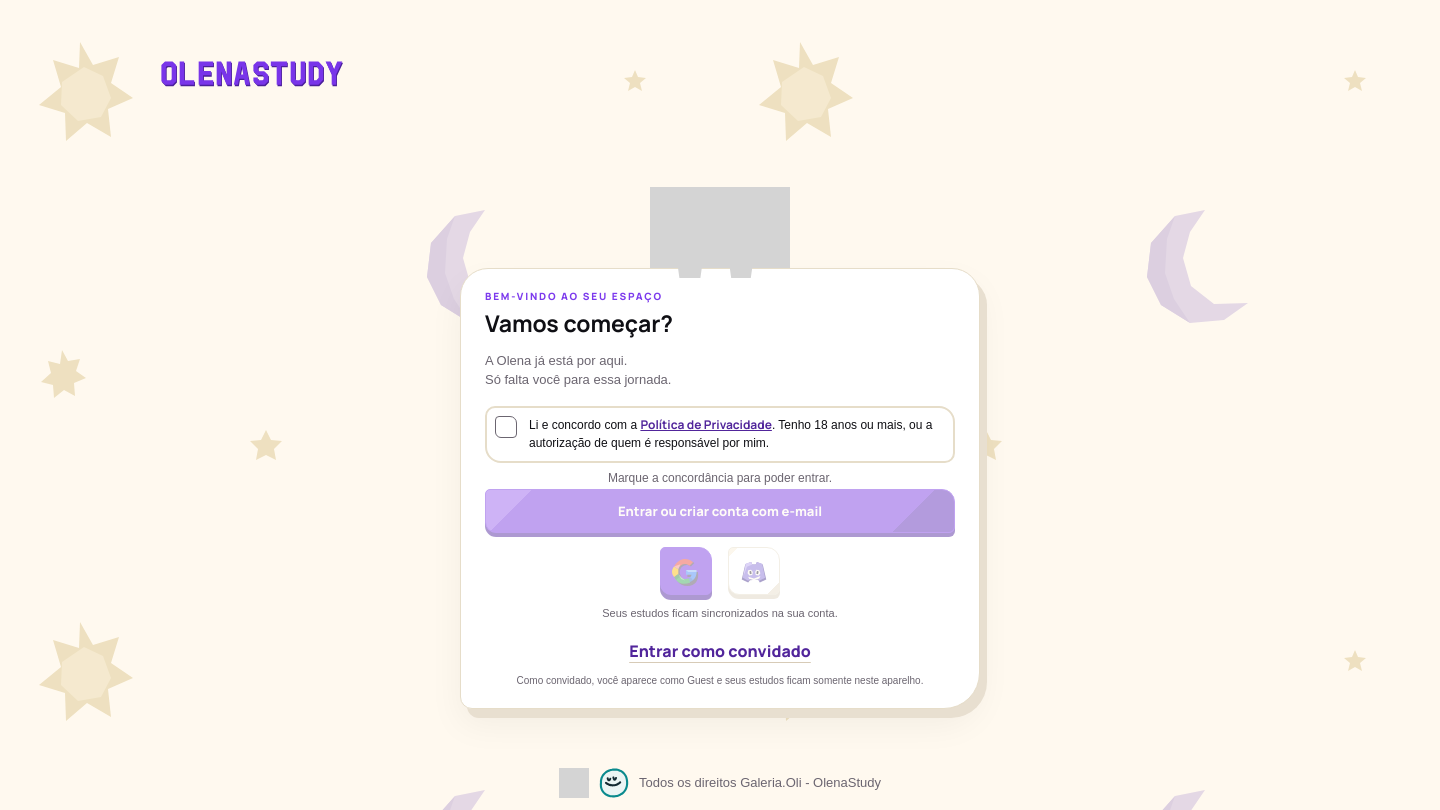
Scenario: fallback de redirecionamento quando o pop-up é bloqueado › volta ao botão de login quando nao ha resultado de redirecionamento pendente
Click the checkbox labelled "Li e concordo" at (506, 427), box [495,416,517,438]
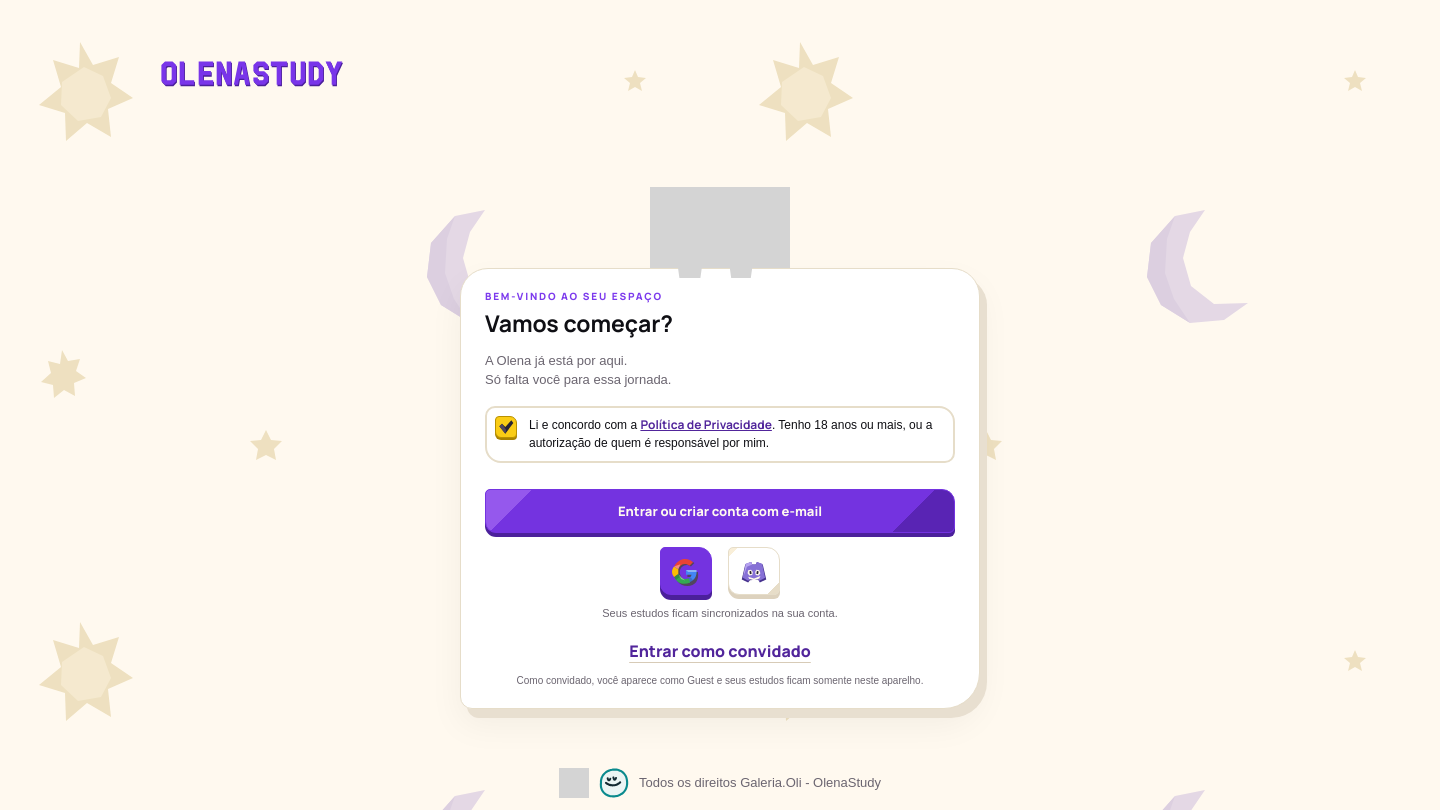
Result: the button named "Entrar com Google" is enabled at [660,547,712,595]
